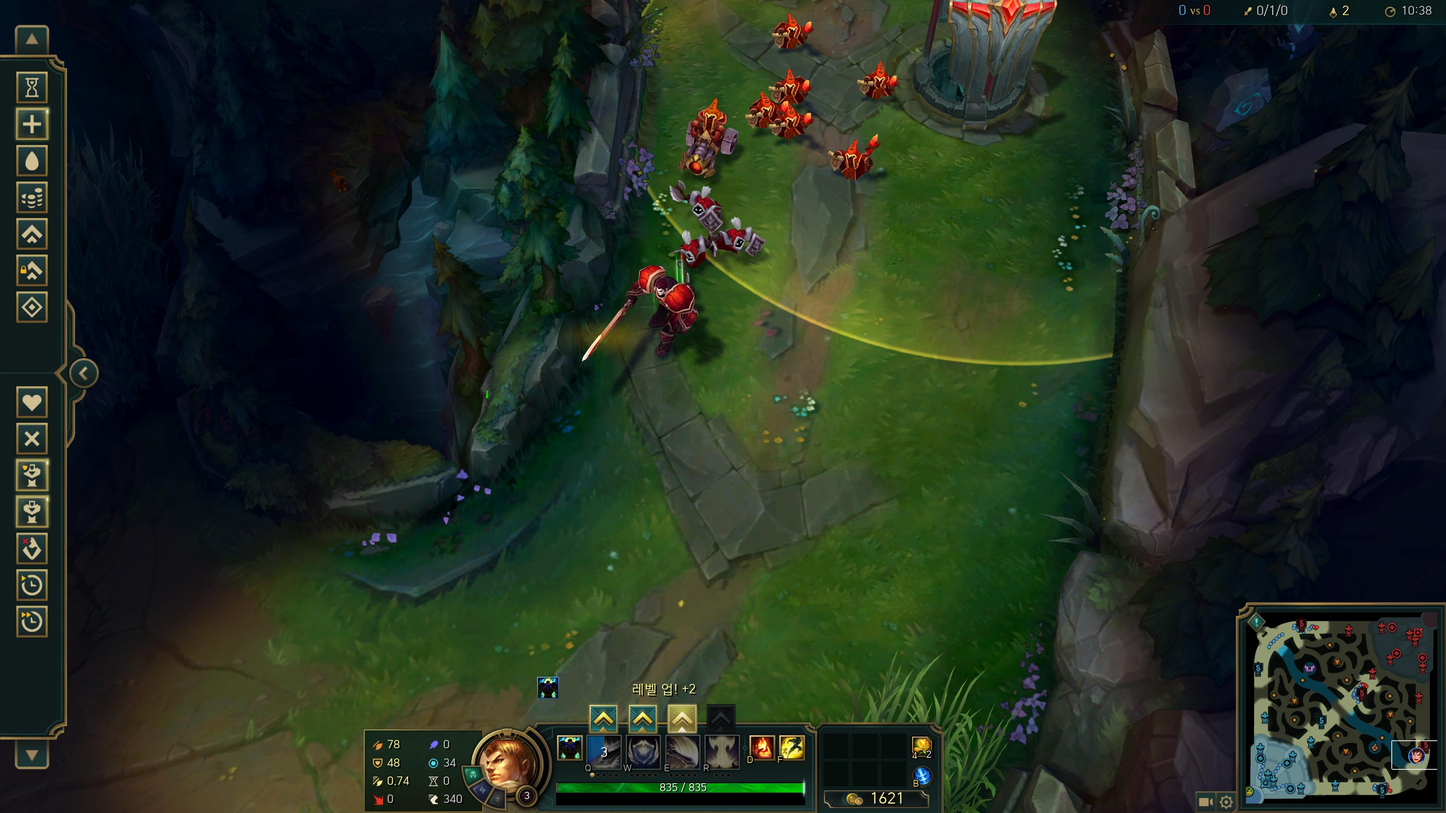enemy-caster-minion: (830, 132, 880, 177), (769, 99, 813, 137), (858, 58, 899, 98), (772, 11, 814, 47), (770, 65, 811, 101), (746, 90, 779, 126)
enemy-melee-minion: (669, 179, 723, 231), (713, 216, 766, 255), (674, 228, 707, 266)
enemy-siege-minion: (679, 96, 738, 174)
enemy-tower: (898, 0, 1058, 142)
